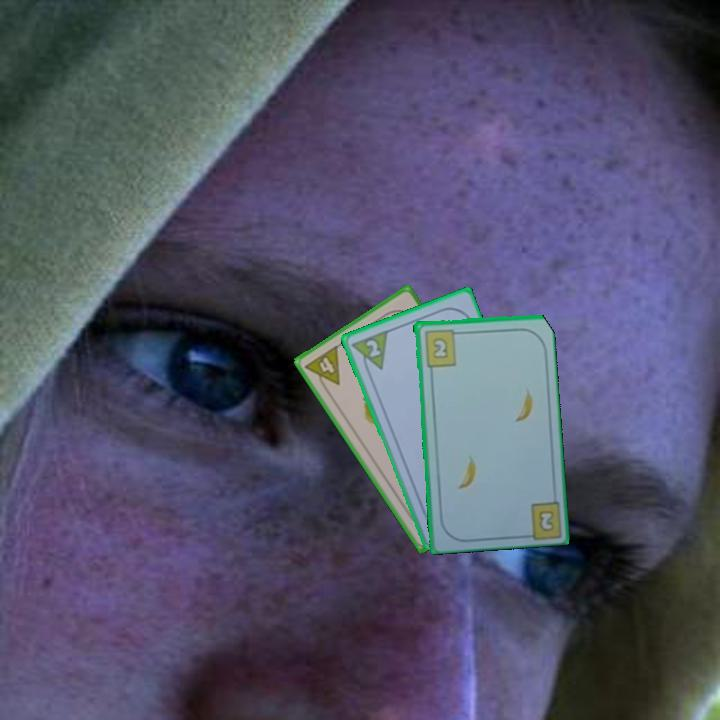2b: (421, 325, 463, 369), (537, 509, 554, 532)
2p: (362, 336, 383, 360)
4p: (301, 342, 343, 395)
